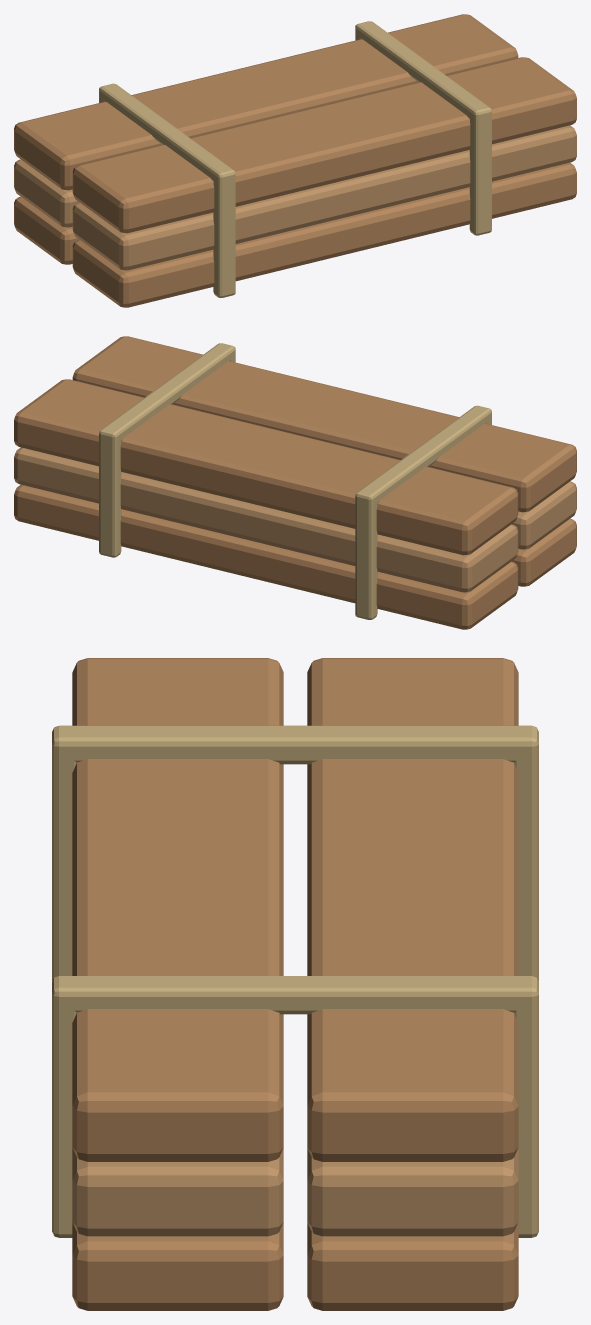
Rendered from goods_planks_bundle.glb.
3 views of the same model, one above another, from view 1: azimuth 30°, elevation 25°; view 2: azimuth 150°, elevation 25°; view 3: azimuth 270°, elevation 25° (orthographic). The views are drawn at different scales.
Visible parts, largest first — view 1: goods_planks_bundle; view 2: goods_planks_bundle; view 3: goods_planks_bundle.
Boxes of the visible parts, x1,y1,x2,y2 form: goods_planks_bundle: (14,14,576,307); goods_planks_bundle: (14,336,576,629); goods_planks_bundle: (52,658,538,1310).
Bounding box in the file's own units: 0.9 × 0.235 × 0.415.
